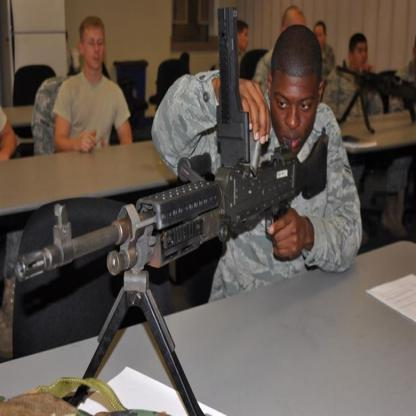Gun: (15, 129, 328, 416)
